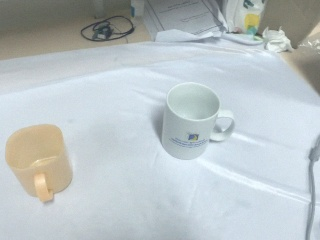box: (261, 1, 320, 51)
cup: (5, 123, 76, 204), (161, 81, 234, 159)
